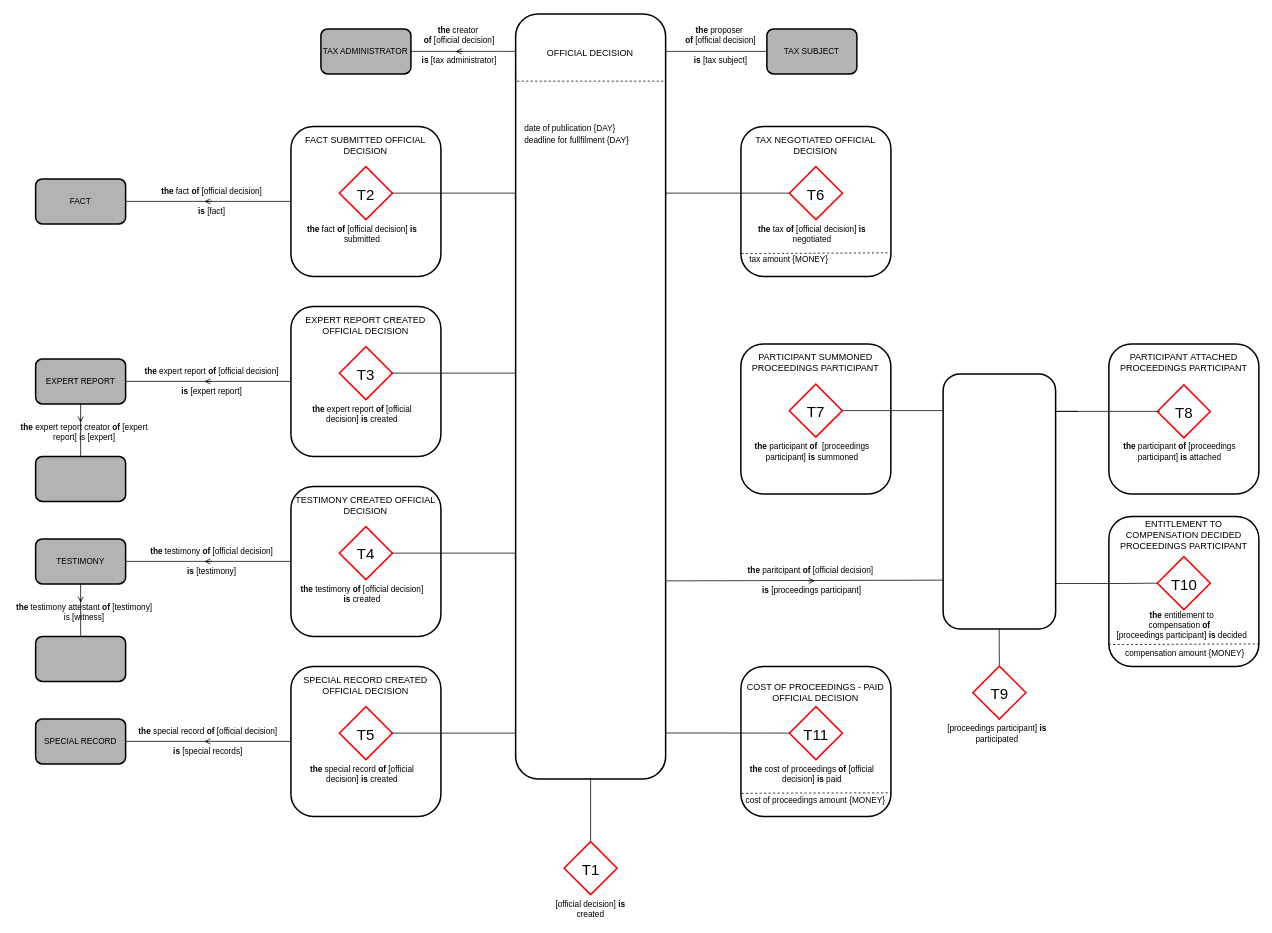
This 1272x933 diagram has some shape labels left out. The centre of each missing label's shape, as x and y in pixels:
"EXPERT" belongs at (80,478).
"PROCEEDINGS PARTICIPANT" belongs at (999,501).
"WITNESS" belongs at (80,658).
